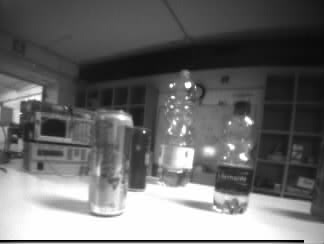Bottle: (215, 104, 254, 214), (158, 70, 193, 186)
Tin can: (92, 109, 128, 214), (126, 126, 147, 192)
